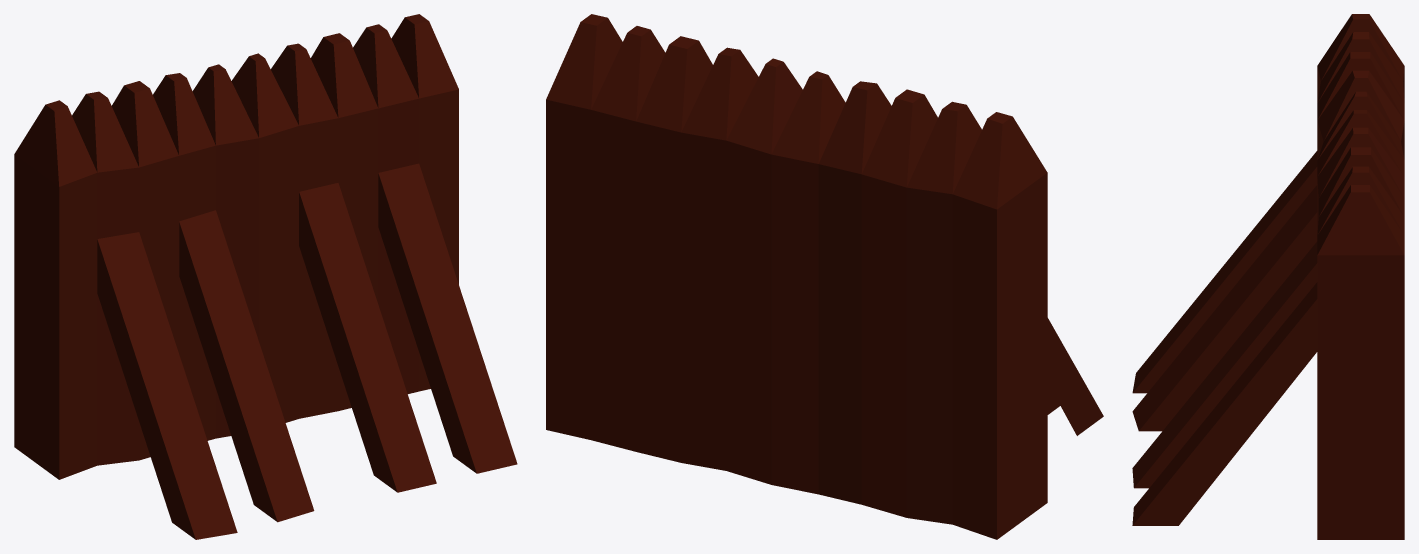
The model's file is wall_hold.obj.
The picture shows the model from 3 angles, left to right: view 1: azimuth 30°, elevation 25°; view 2: azimuth 150°, elevation 25°; view 3: azimuth 270°, elevation 25°; orthographic projection. The views are drawn at different scales.
Visible parts, largest first — view 1: wall_hold; view 2: wall_hold; view 3: wall_hold.
Part boxes in pixels (<box>): wall_hold: <box>14,14,517,539</box>; wall_hold: <box>546,14,1103,539</box>; wall_hold: <box>1132,14,1404,539</box>.
Size of the model in its own units: 0.9768 by 0.8342 by 0.5923.
